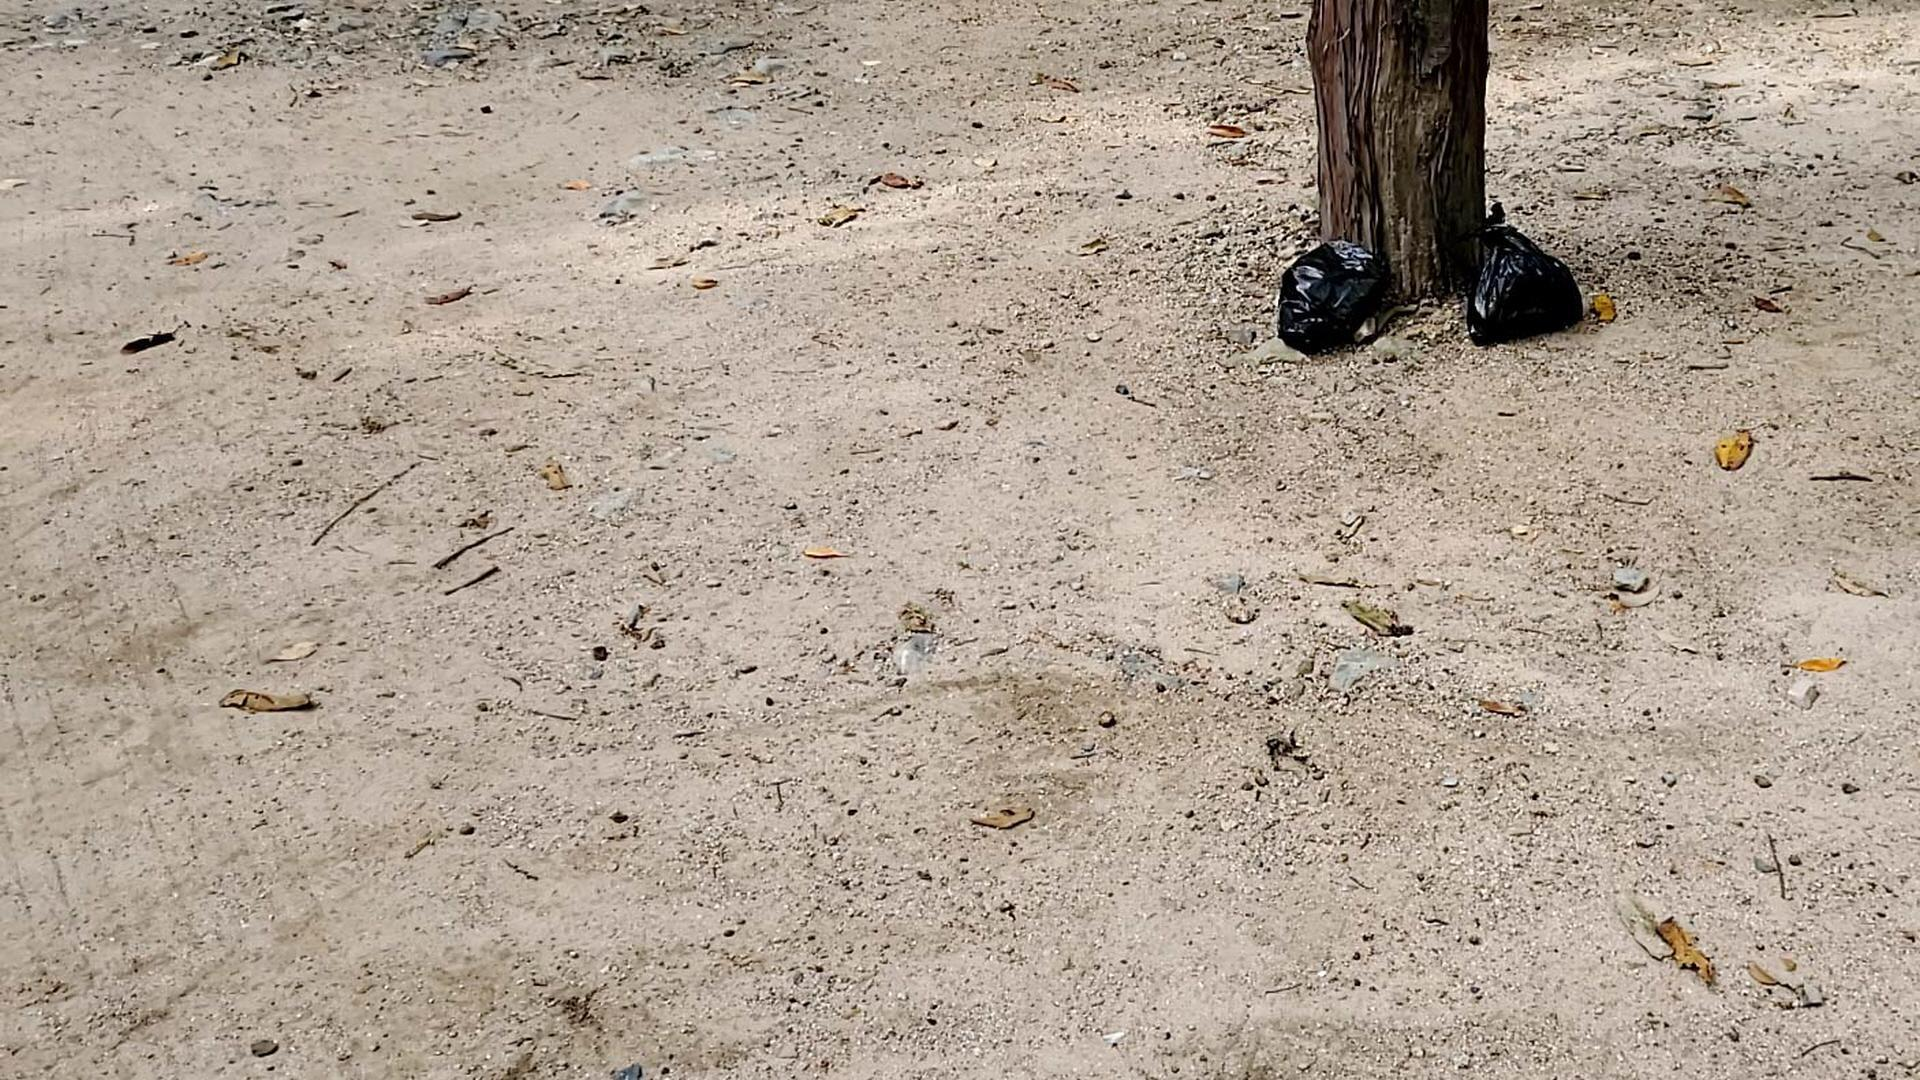black_bag: (1458, 196, 1593, 347), (1271, 235, 1400, 357)
